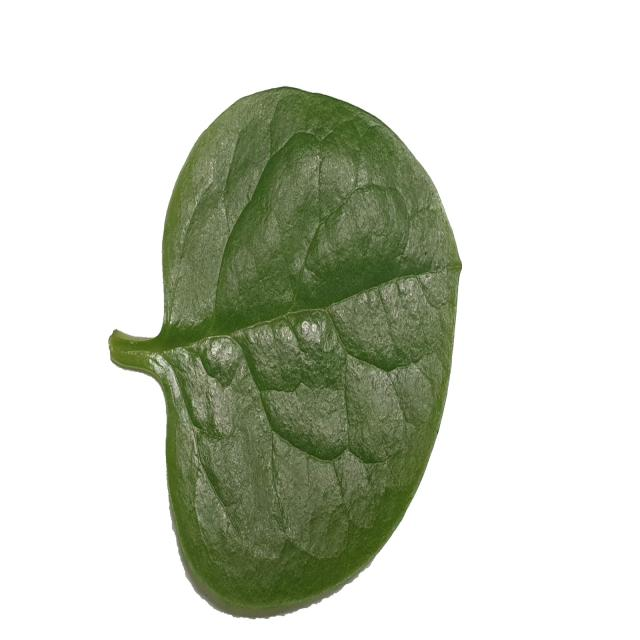Medicinal-Basale: (109, 83, 464, 608)
